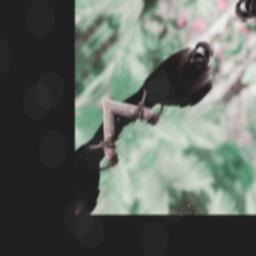Crow: (112, 24, 230, 157)
